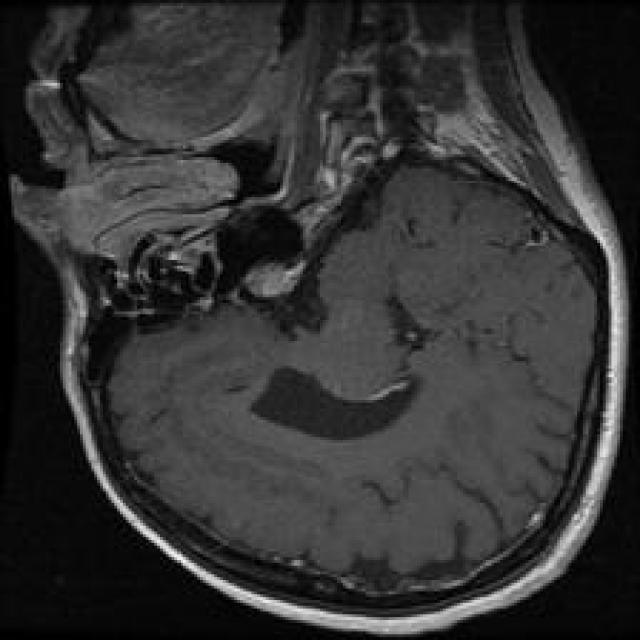pituitary_tumor: (228, 235, 336, 338)
